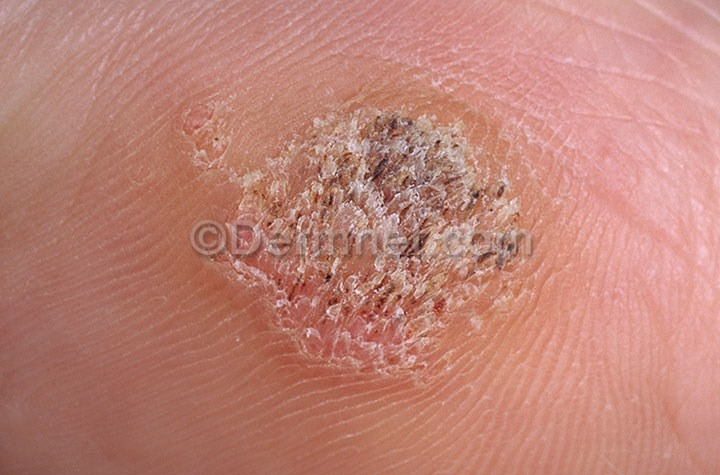Warts: (240, 107, 525, 221)
